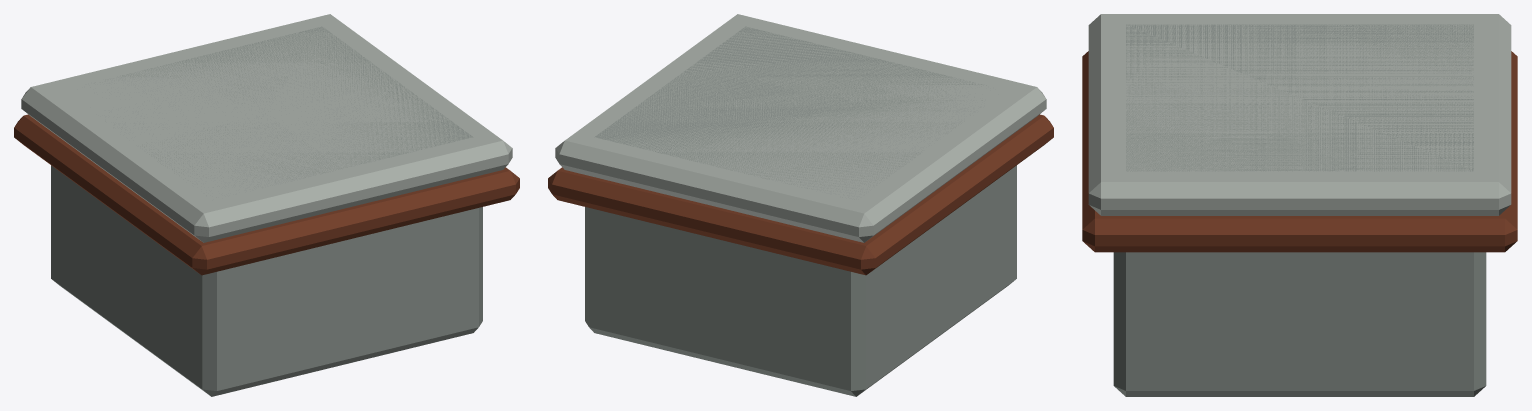
The model's file is RUIN_POOL_Corner.glb.
3 renders of one model, left to right at view 1: azimuth 30°, elevation 25°; view 2: azimuth 150°, elevation 25°; view 3: azimuth 270°, elevation 25°, orthographic. The views are drawn at different scales.
Parts seen in each view (by area): view 1: RUIN_POOL_Corner; view 2: RUIN_POOL_Corner; view 3: RUIN_POOL_Corner.
Boxes of the visible parts, left/top/right/bottom form: RUIN_POOL_Corner: left=14, top=14, right=519, bottom=396; RUIN_POOL_Corner: left=548, top=14, right=1053, bottom=396; RUIN_POOL_Corner: left=1082, top=14, right=1517, bottom=396.
Bounding box in the file's own units: 0.7 × 0.4 × 0.7.
